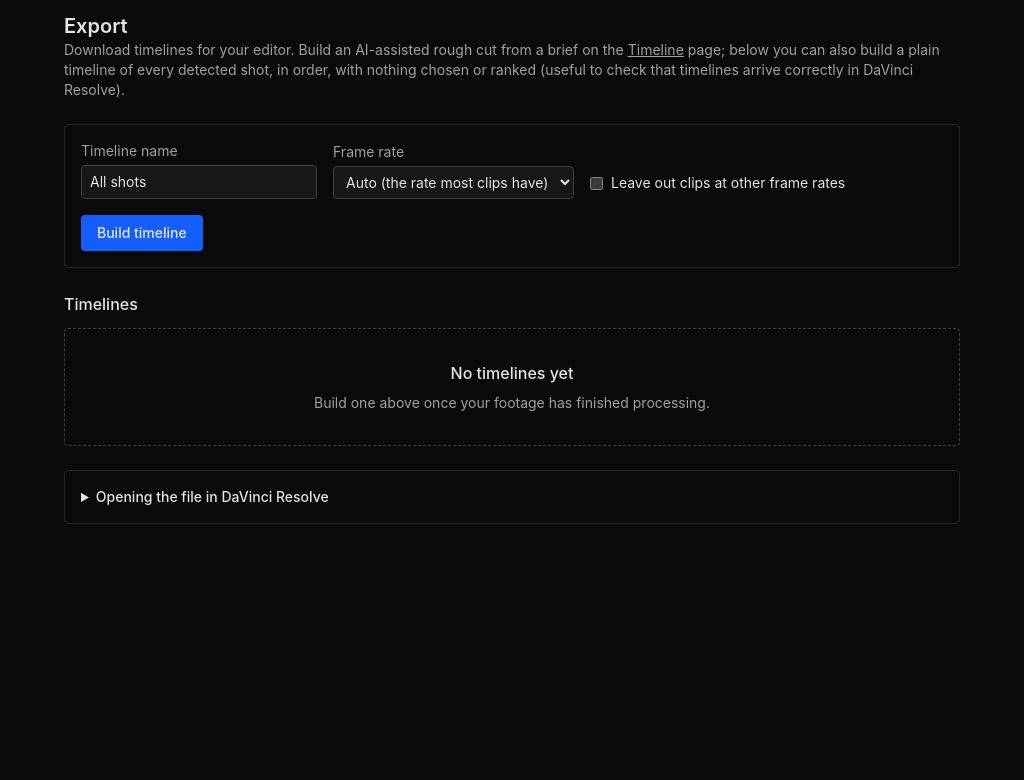
Test case: shows the backend's reason when nothing can be built
Step 1. Click the button "Build timeline" → click(142, 233), box [81,215,203,251]
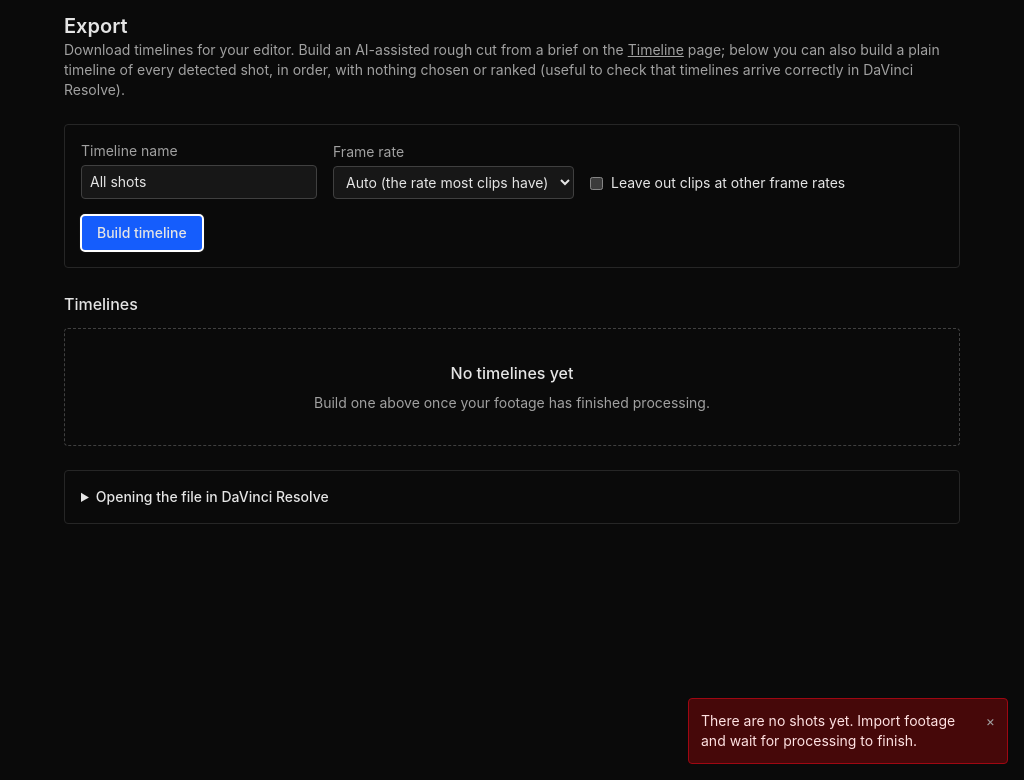
Expected: the text "There are no shots yet. Import footage and wait for processing to finish." is shown, [701,711,974,751]
